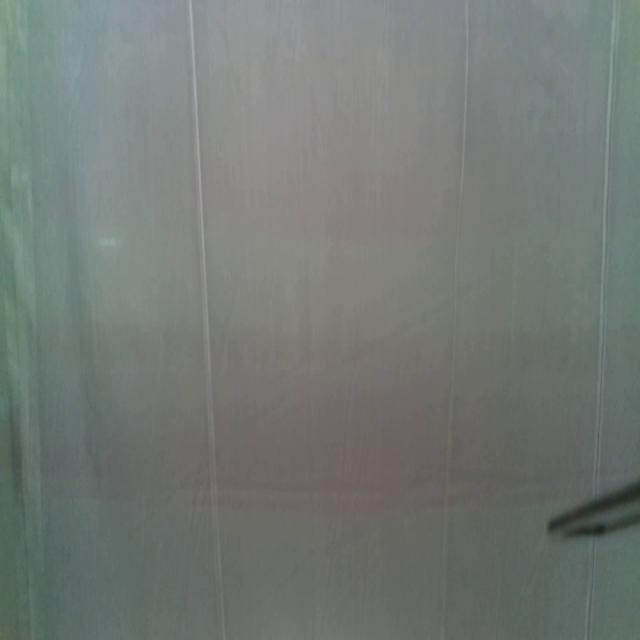color bleeding: (38, 310, 634, 511), (41, 152, 636, 252)
crease: (0, 0, 45, 640), (189, 0, 227, 640), (438, 1, 472, 640), (592, 0, 620, 488), (586, 537, 597, 640)
